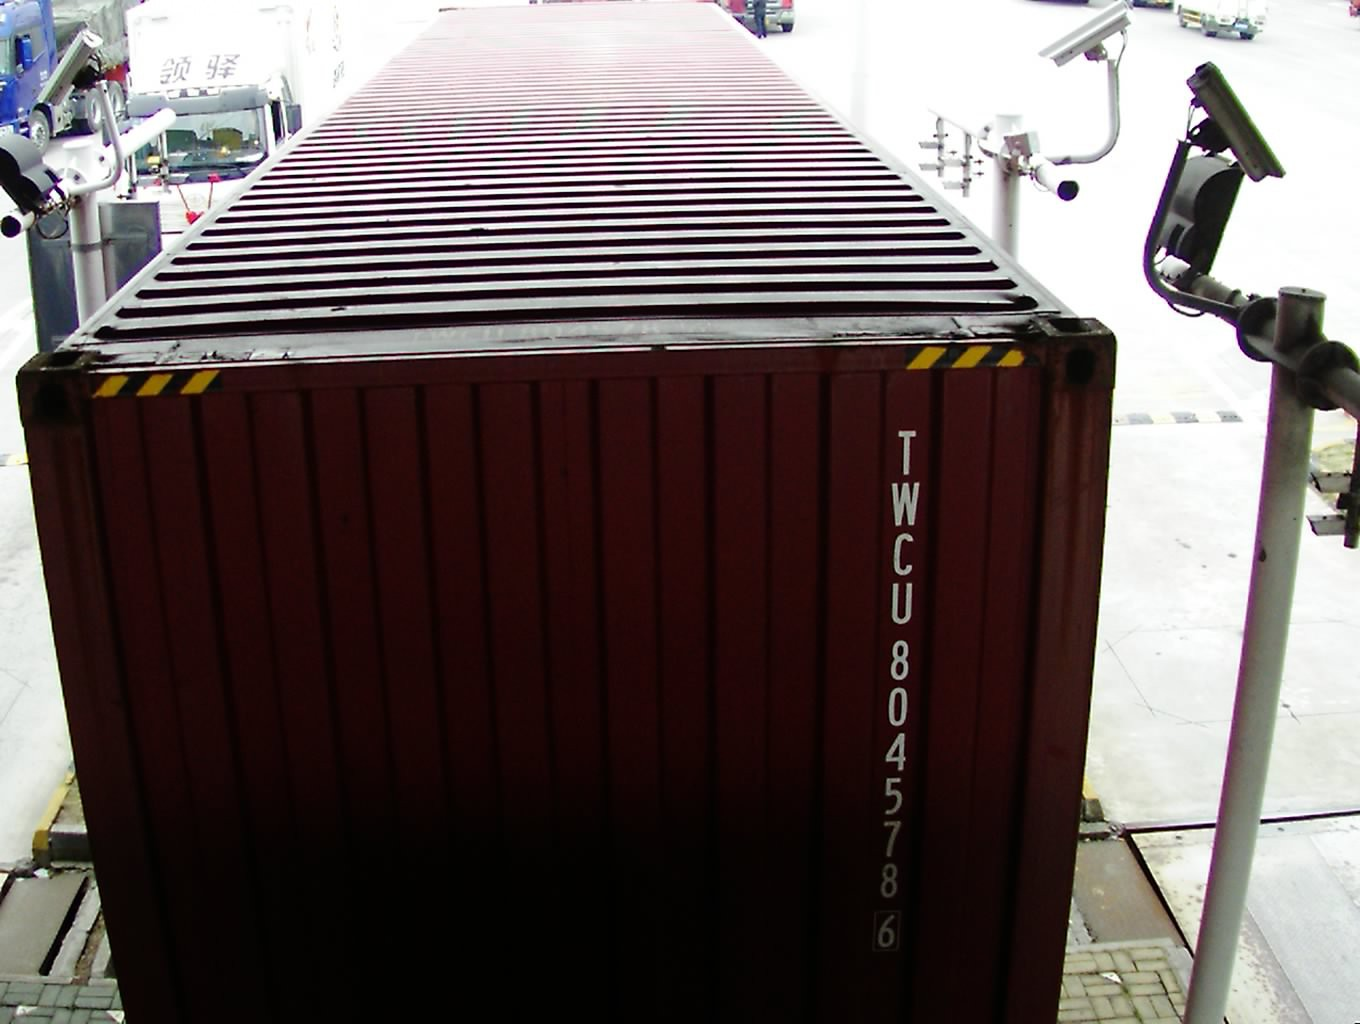words: (873, 416, 927, 959)
